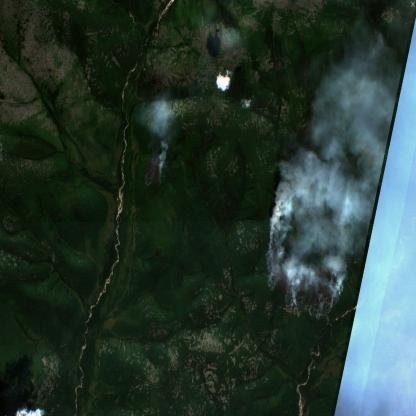fire: (263, 181, 349, 316), (140, 151, 168, 188)
